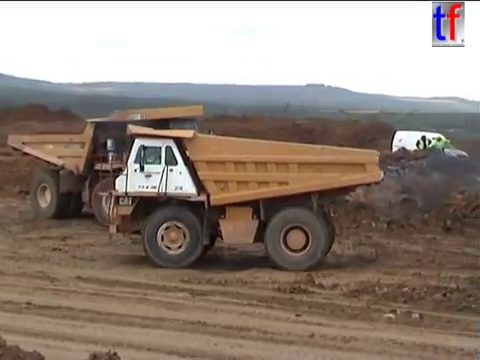truck: (86, 121, 386, 272), (4, 102, 215, 229)
worker: (414, 132, 433, 167), (431, 133, 449, 168)
